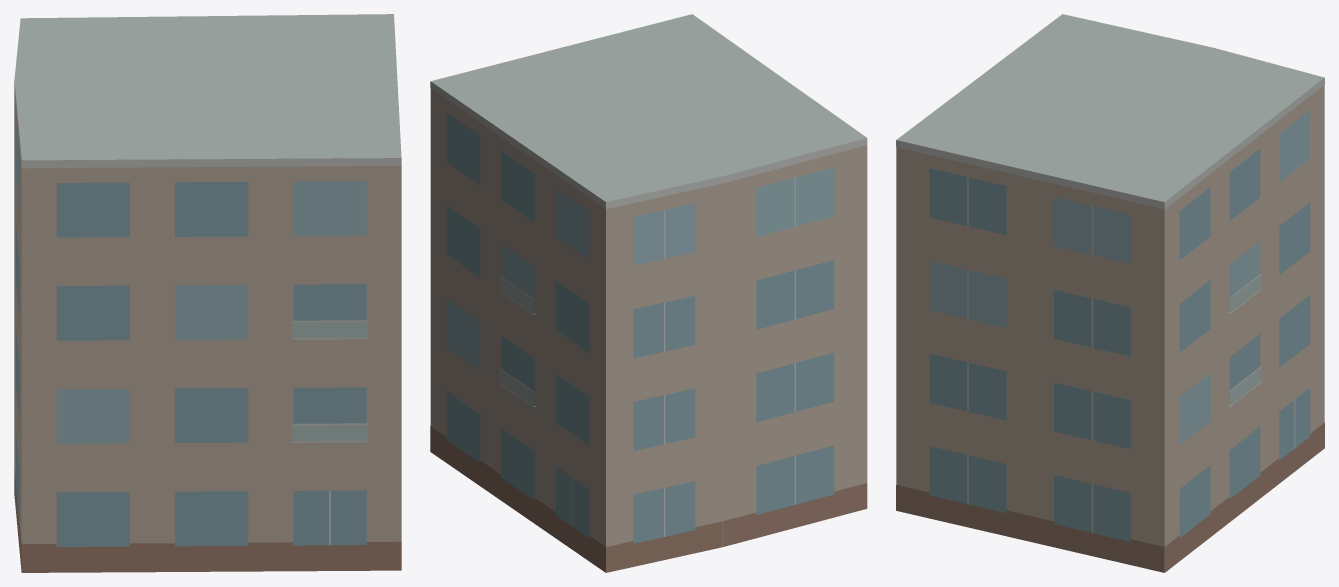
File: survey-upis-32682616.glb
3 views of the same model, side by side, from view 1: azimuth 30°, elevation 25°; view 2: azimuth 150°, elevation 25°; view 3: azimuth 270°, elevation 25° (orthographic). The views are drawn at different scales.
Parts seen in each view (by area): view 1: survey-upis-32682616.tmp; view 2: survey-upis-32682616.tmp; view 3: survey-upis-32682616.tmp.
Part boxes in pixels (left/top/right/bottom): survey-upis-32682616.tmp: left=14, top=14, right=401, bottom=572; survey-upis-32682616.tmp: left=430, top=14, right=867, bottom=572; survey-upis-32682616.tmp: left=896, top=14, right=1324, bottom=572.
Size of the model in its own units: 13.95 by 12.8 by 13.43.
